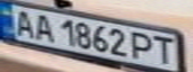1: (54, 16, 78, 46)
2: (106, 26, 130, 57)
6: (90, 24, 112, 54)
8: (72, 20, 93, 51)
A: (9, 7, 39, 38), (30, 11, 57, 43)
P: (127, 29, 157, 62)
T: (151, 34, 178, 65)
